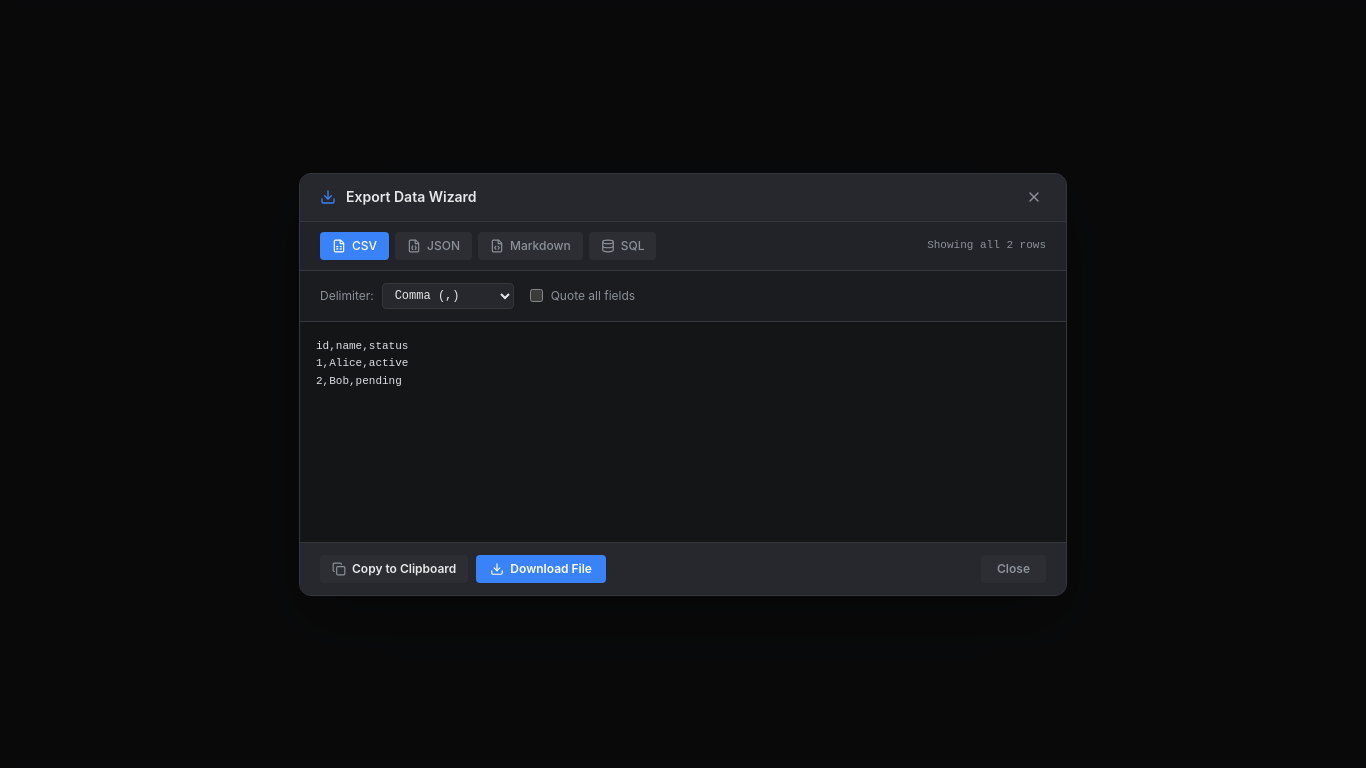
it: ExportModal component › allows customizing SQL table name and reflects in SQL preview
Click the tab "SQL" at (623, 246), box left=589, top=232, right=656, bottom=260
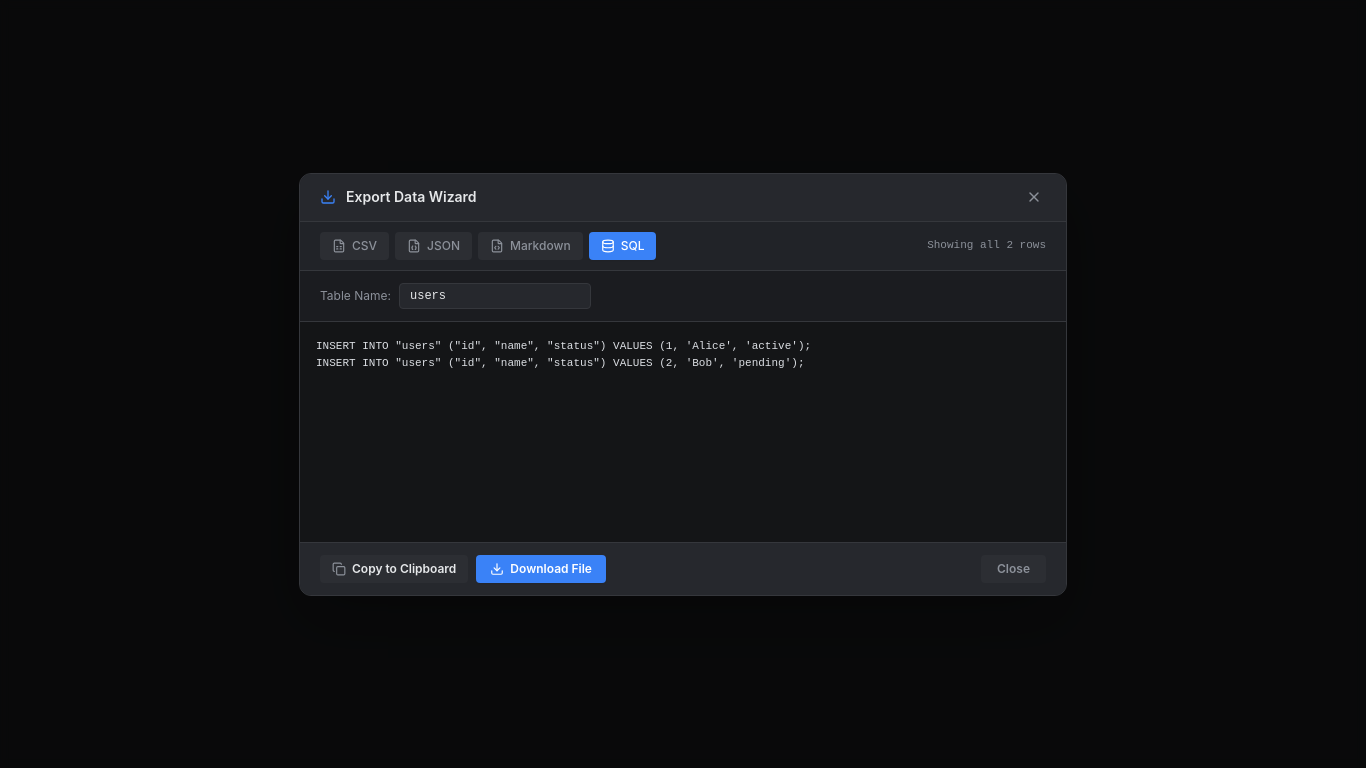
Replace the text in the field labelled "Table Name:" with "custom_customers" at (495, 296), box left=399, top=282, right=591, bottom=308
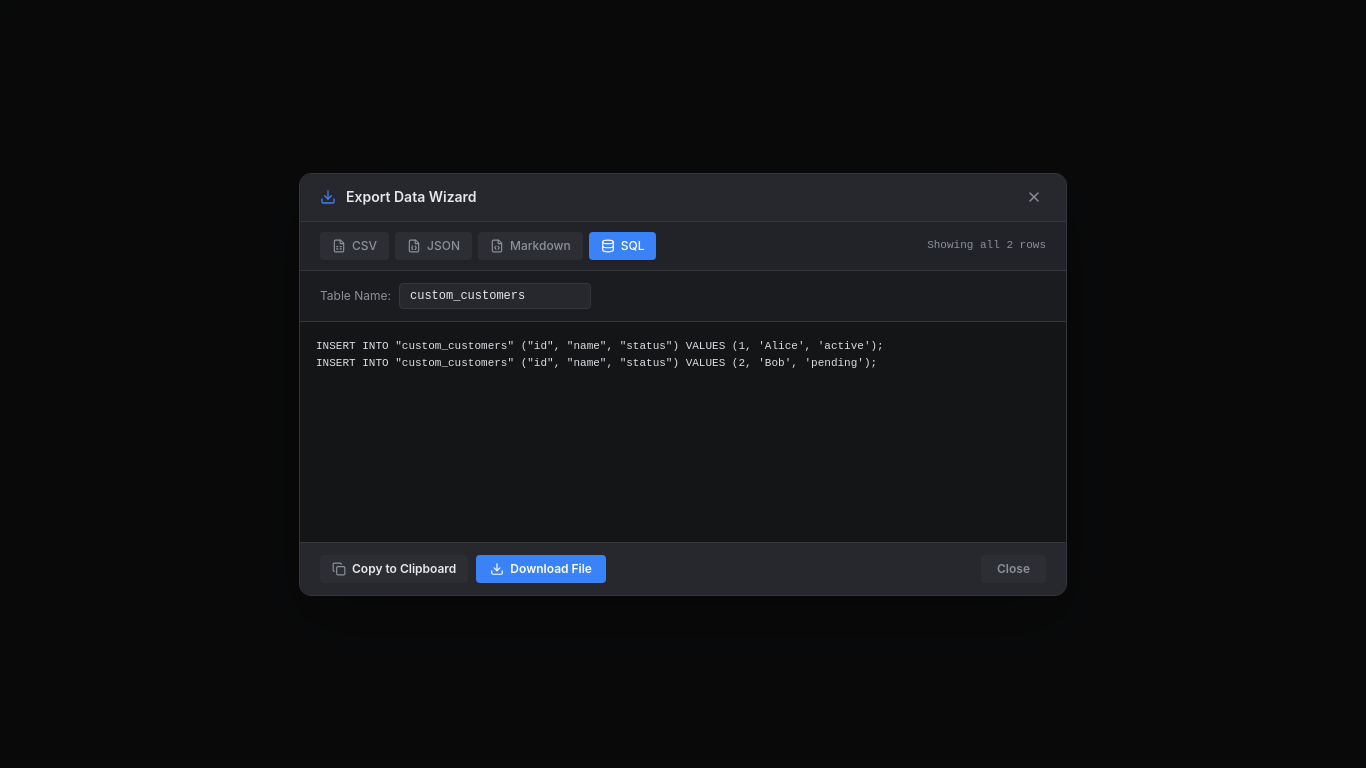
expect the text with test id "export-preview" shows "INSERT INTO \"custom_customers\" (\"id\", \"name\", \"status\")": met, box left=316, top=340, right=884, bottom=369
